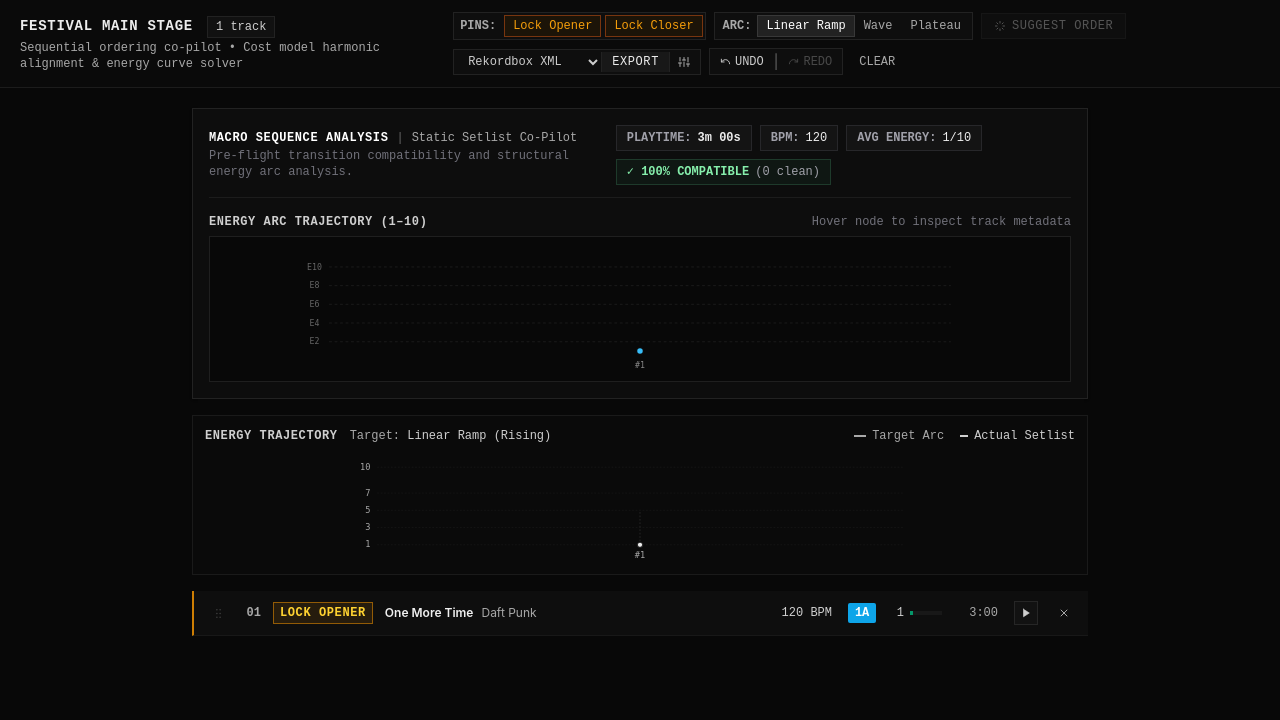
Test: SetlistView Component Integration Flow › exports setlist to selected target format and displays confirmation message
Select "M3U8 Playlist" in the dropdown named "Export format". click: (529, 62)
box: left=456, top=52, right=602, bottom=72
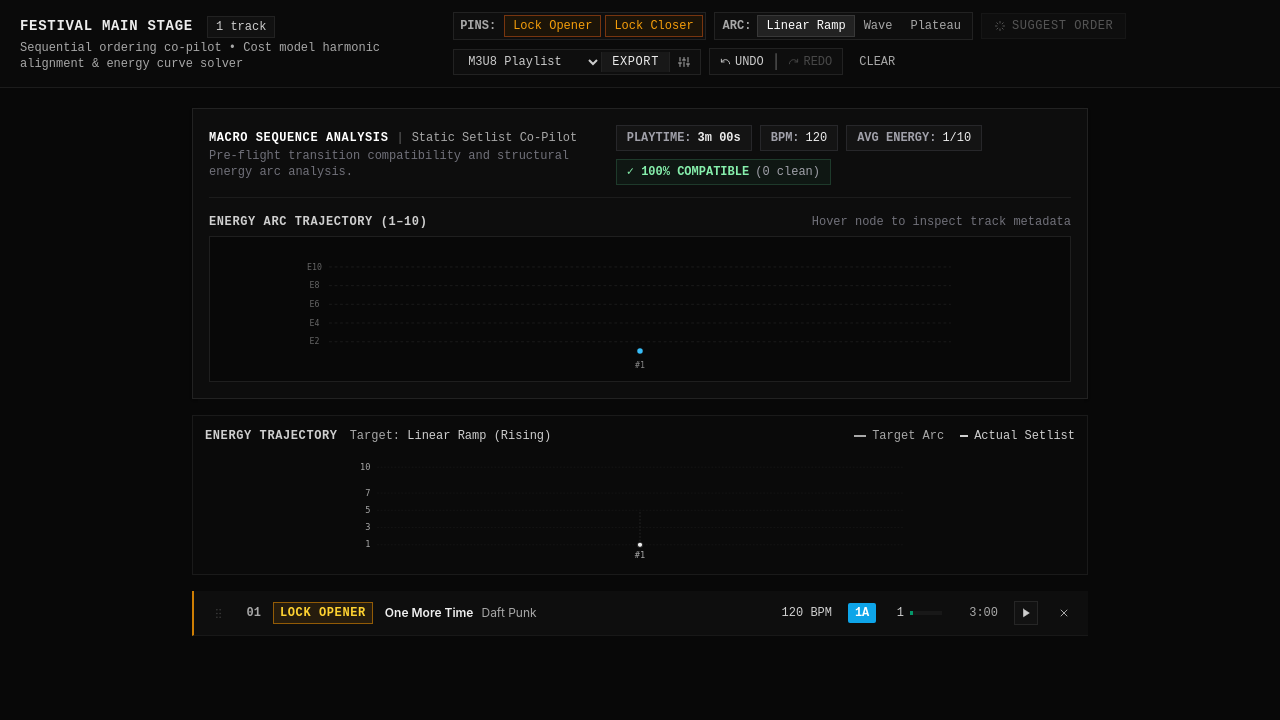
Click the button "Export". click: (636, 62)
box: left=602, top=52, right=669, bottom=72
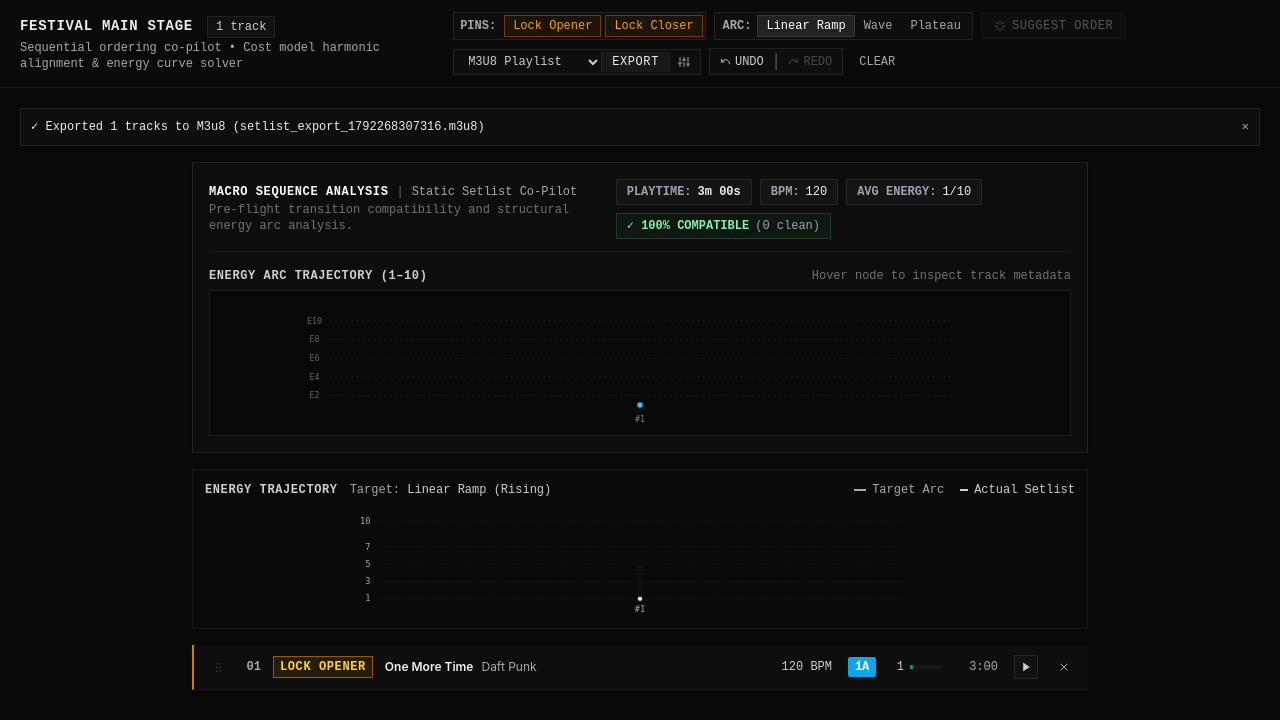
Expected: the text "✓ Exported 1 tracks to M3u8" is shown, left=31, top=119, right=485, bottom=135
